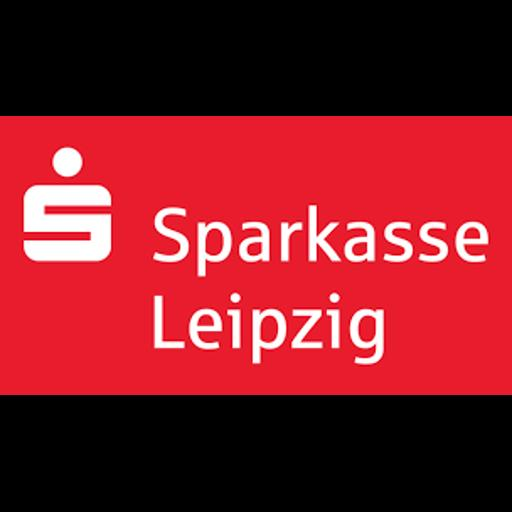Sparkasse Bank: (0, 116, 512, 395)
